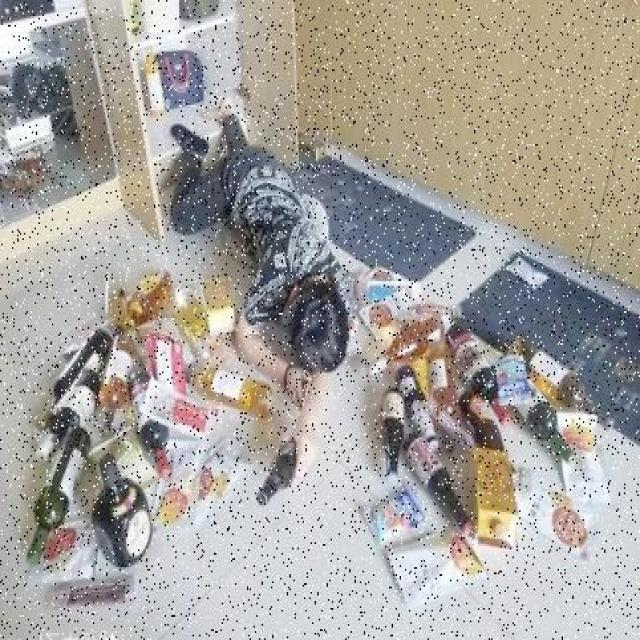fall: (170, 113, 352, 486)
